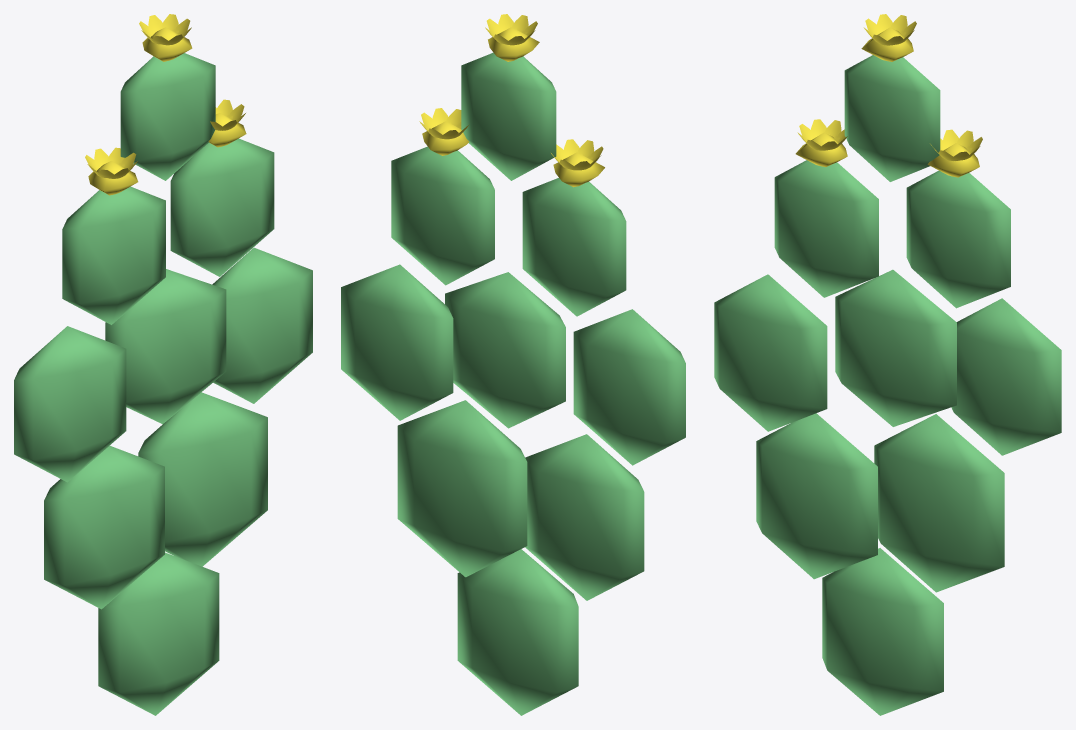
File: succulent_prickly_pear.glb
3 views of the same model, side by side, from view 1: azimuth 30°, elevation 25°; view 2: azimuth 150°, elevation 25°; view 3: azimuth 330°, elevation 25° (orthographic).
Parts seen in each view (by area): view 1: Flora_Prickly_Pear; view 2: Flora_Prickly_Pear; view 3: Flora_Prickly_Pear.
Boxes of the visible parts, x1,y1,x2,y2 form: Flora_Prickly_Pear: [14, 14, 312, 715]; Flora_Prickly_Pear: [341, 14, 685, 715]; Flora_Prickly_Pear: [714, 14, 1061, 715].
Size of the model in its own units: 0.6452 by 1.32 by 0.1458.
